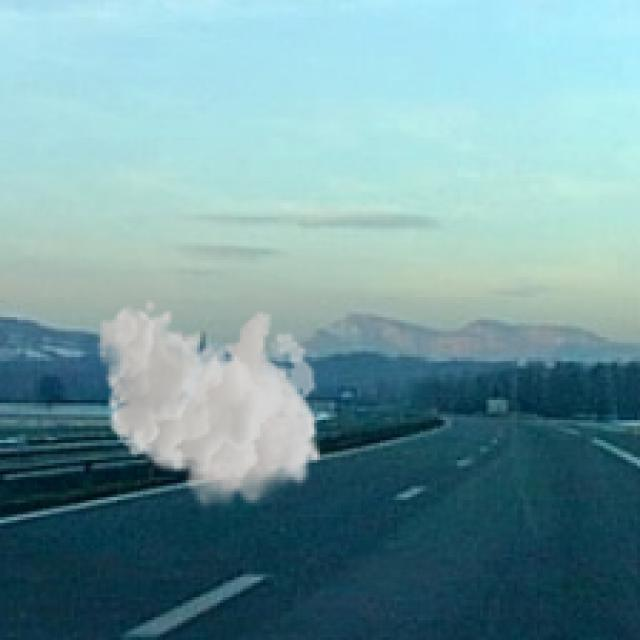Smoke: (97, 297, 323, 514)
